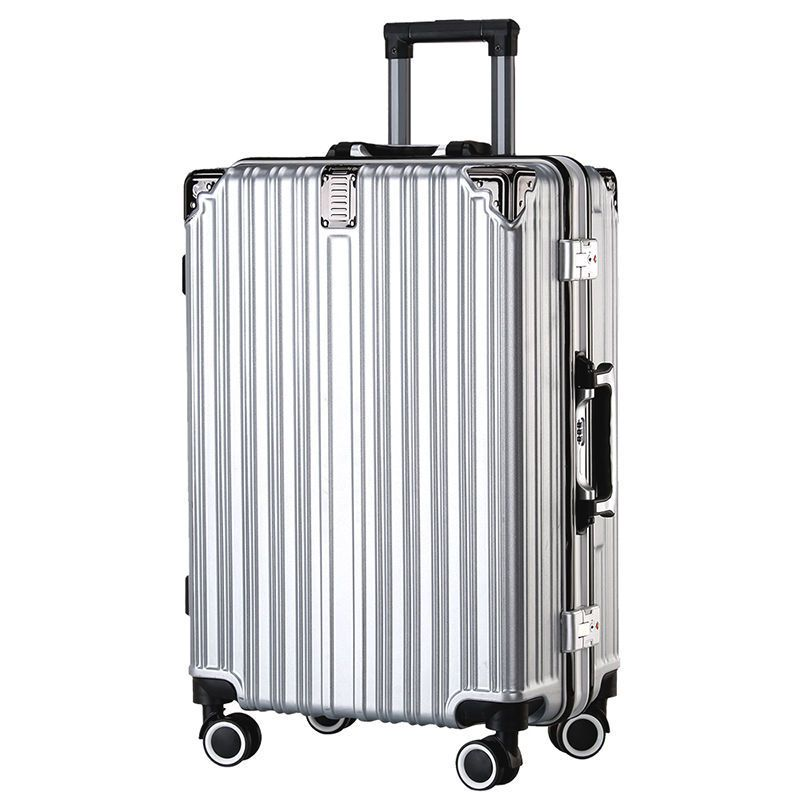box: (185, 157, 623, 730)
handle: (571, 350, 619, 534), (326, 141, 497, 157)
lock: (561, 604, 601, 652), (559, 237, 599, 280)
wheel: (455, 735, 522, 791), (202, 712, 262, 767), (548, 709, 612, 759)
